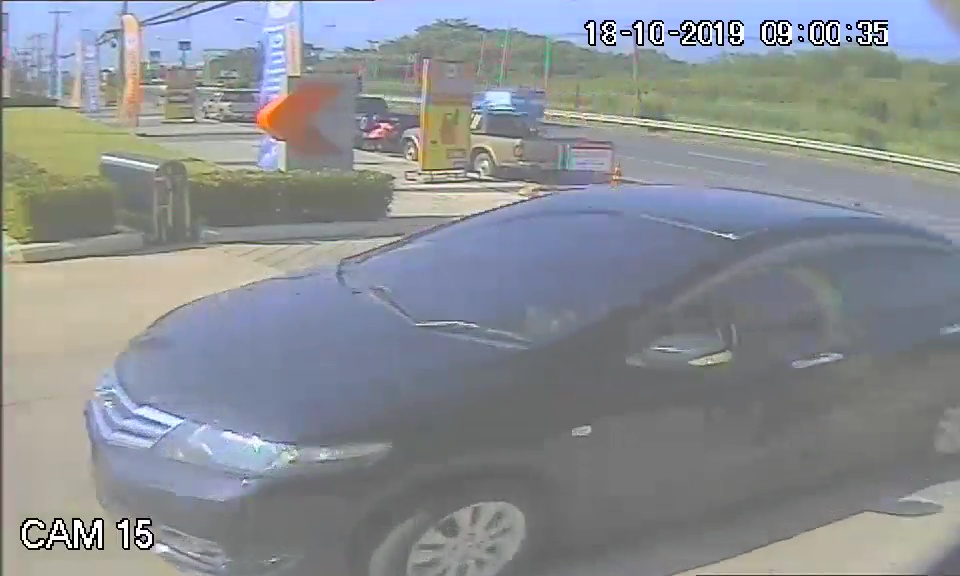sedan: (76, 180, 870, 575)
